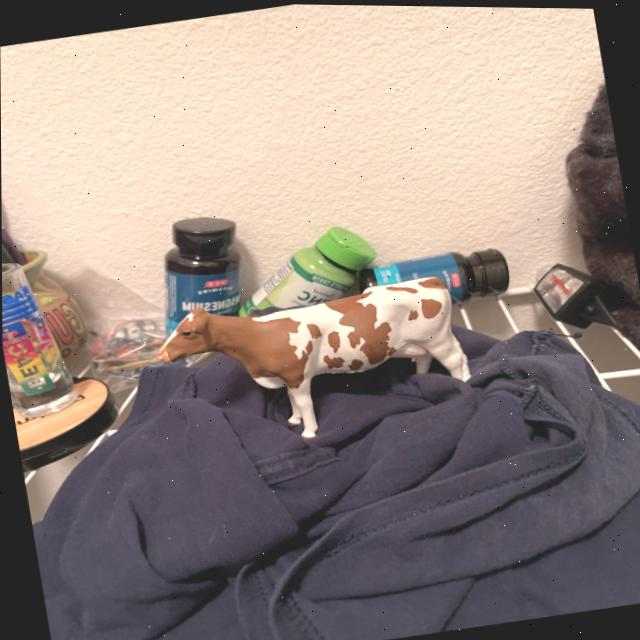cow: (152, 273, 475, 453)
